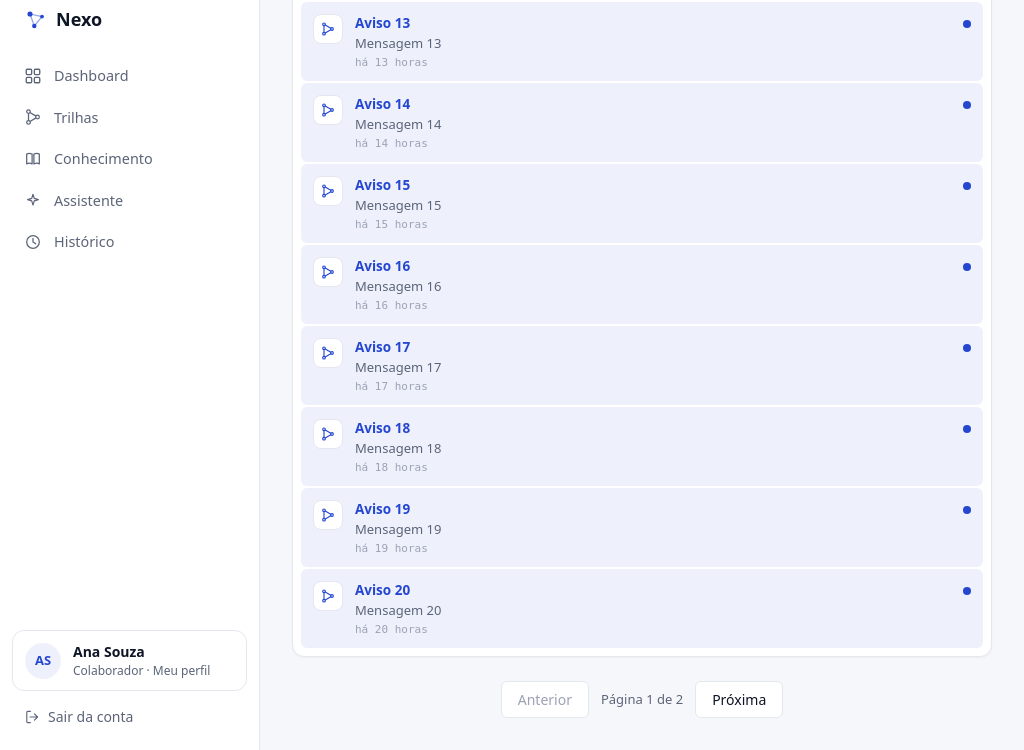
Test: NotificacoesPage › lista paginada, das mais recentes para as mais antigas
This screenshot has width=1024, height=750.
(page scrolled)
Expected: the text "Página 1 de 2" is shown, [601,690,683,710]
Step 1. Click the button "Próxima" → {"x": 739, "y": 700}, box [695,681,783,718]
(page scrolled)
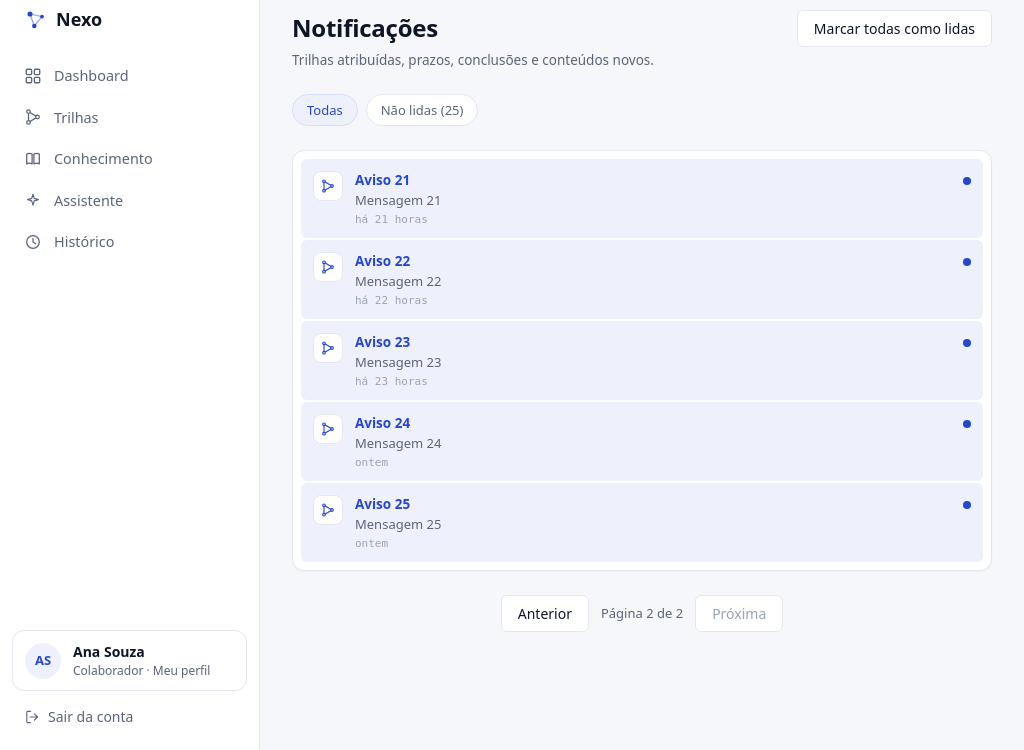
Result: the text "Página 2 de 2" is shown at [601,604,683,624]
Result: the button "Próxima" is disabled at [695,595,783,632]
